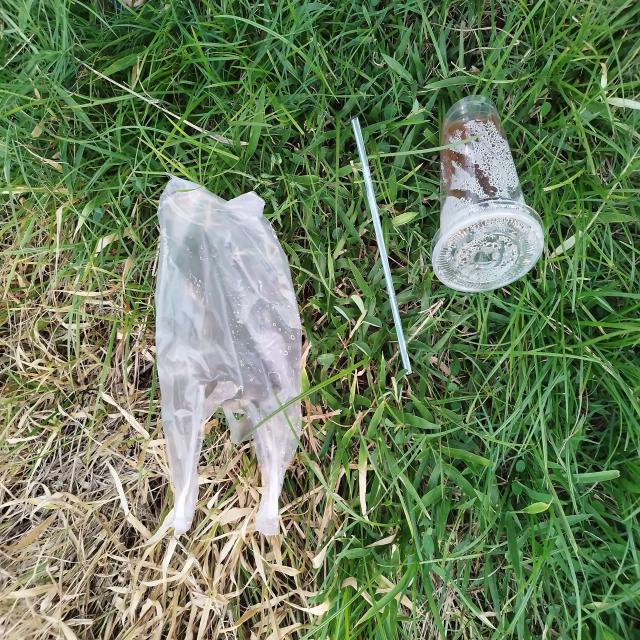bag: (154, 174, 302, 540)
drinking straw: (351, 116, 412, 377)
plastic glass: (430, 94, 546, 293)
